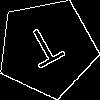T: (21, 23, 71, 77)
